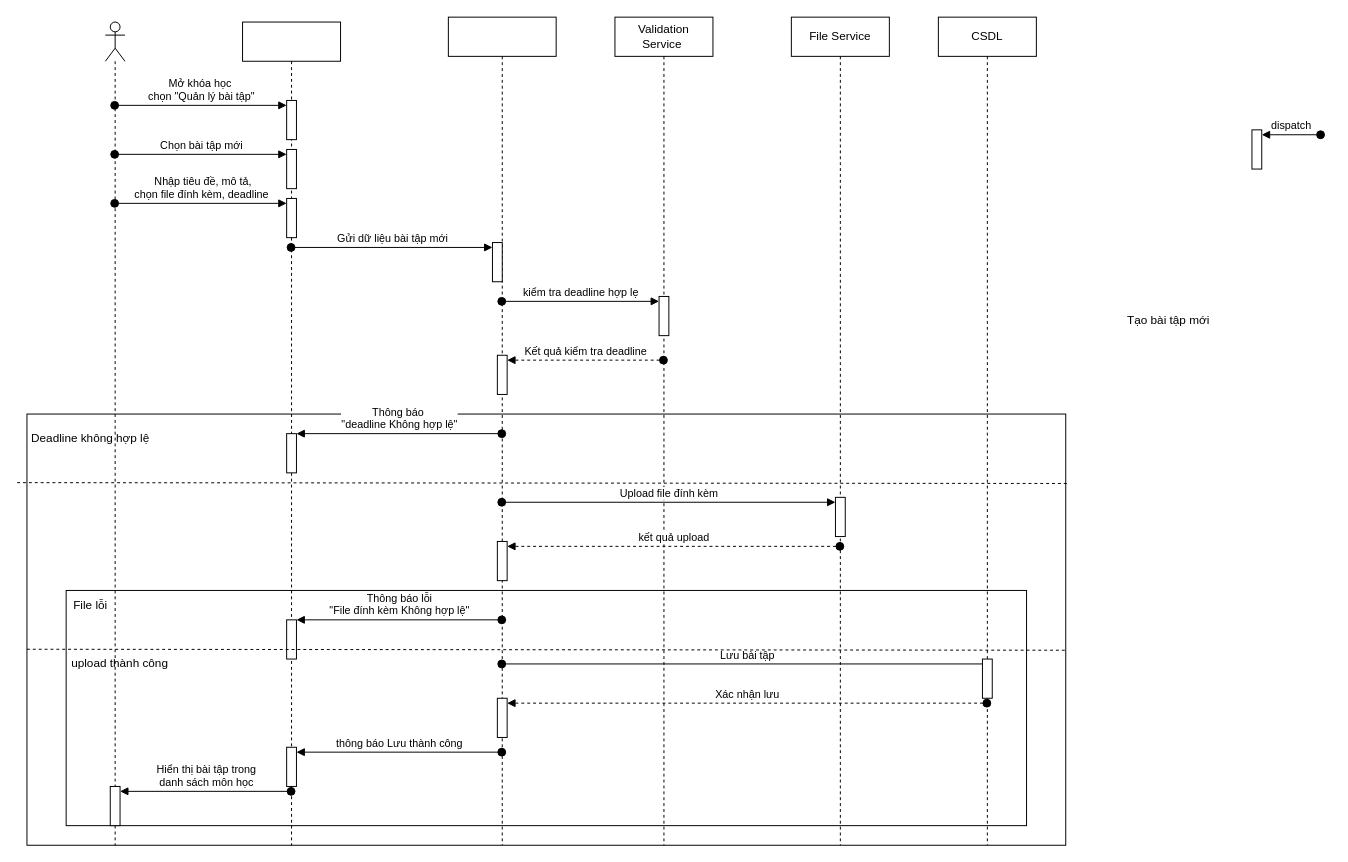
Image size: 1348x862. Some labels were removed from this diagram. Here are the shapes that lost their labels. From the top down, the centre of each, then its label:
the point at 291,433: UI
the point at 501,430: AssigmentController
